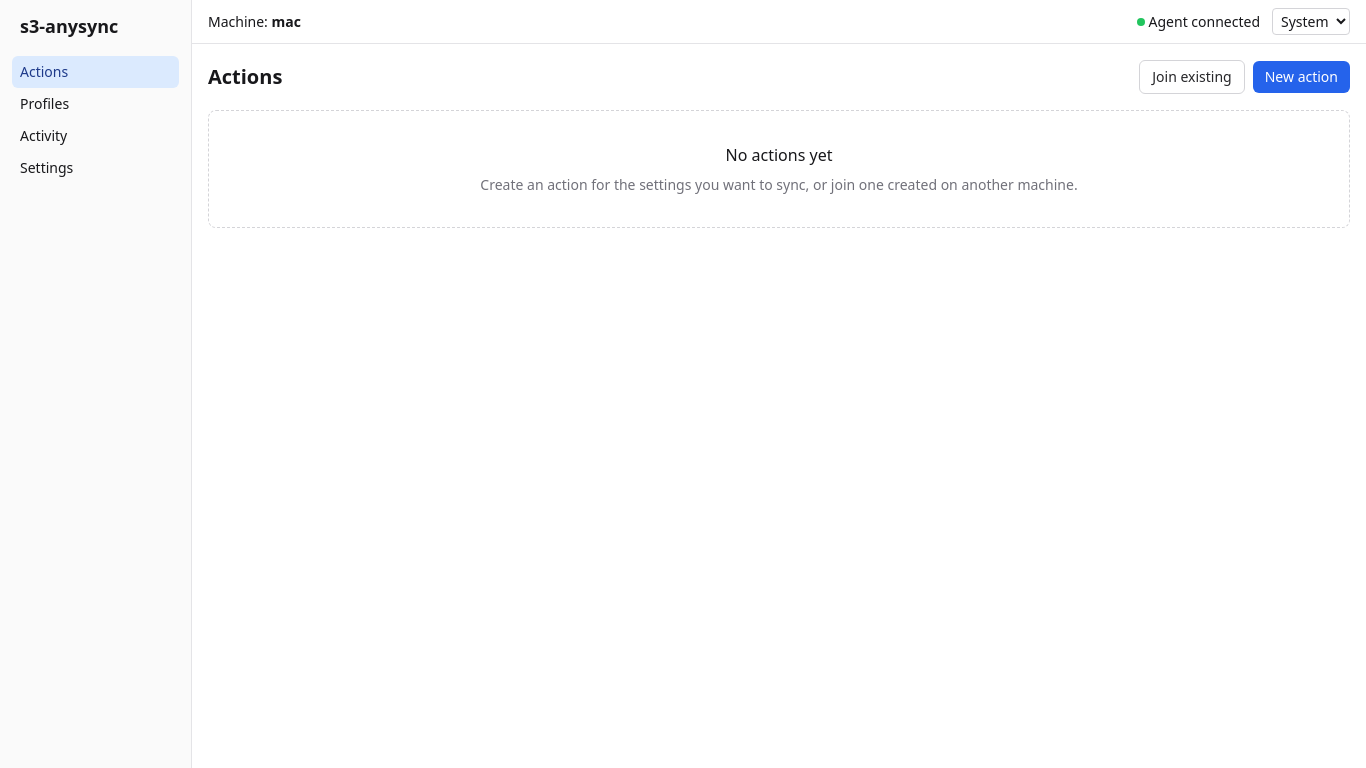
a failing load shows the message with Retry, not a spinner
Click the button "Settings": (96, 168) [12, 152, 179, 184]
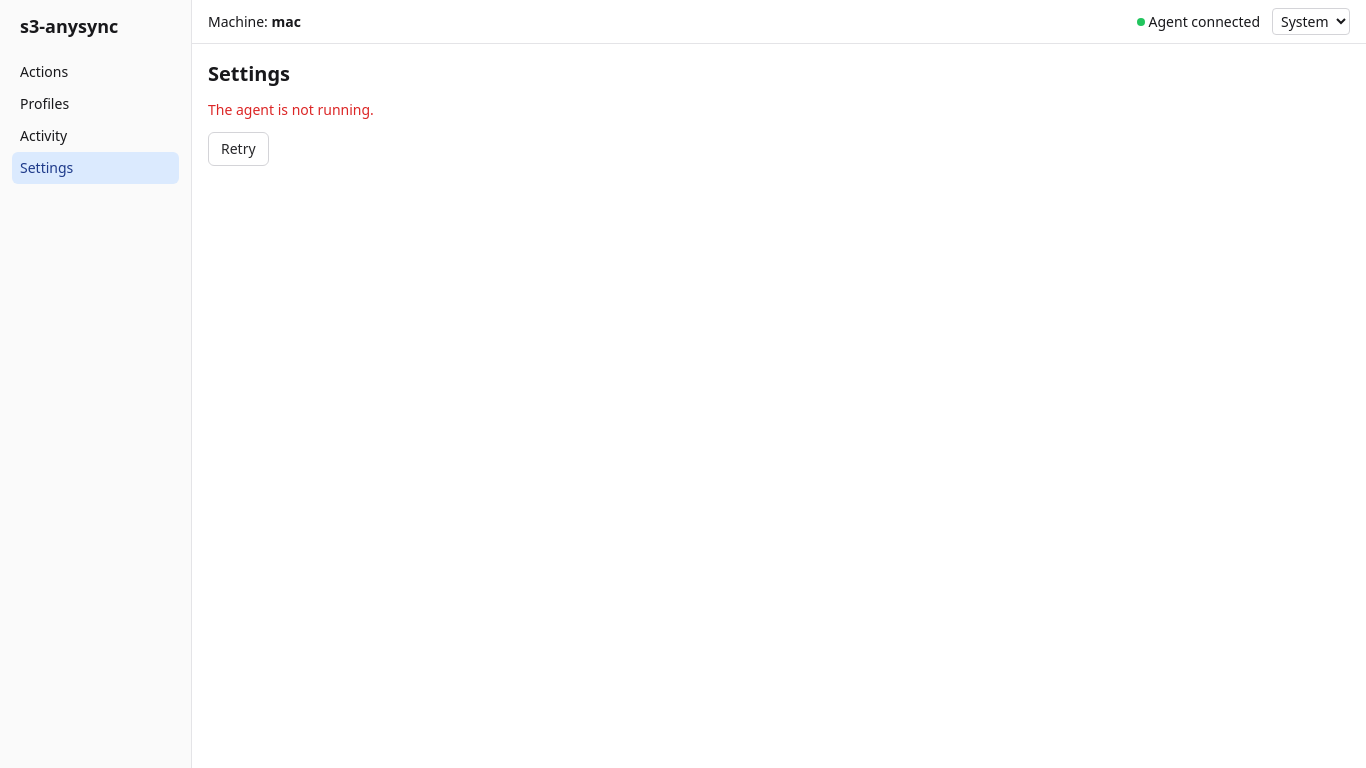
Expected: the text "The agent is not running." is shown, [208, 100, 374, 119]
Click the button "Retry": (238, 149) [208, 132, 269, 166]
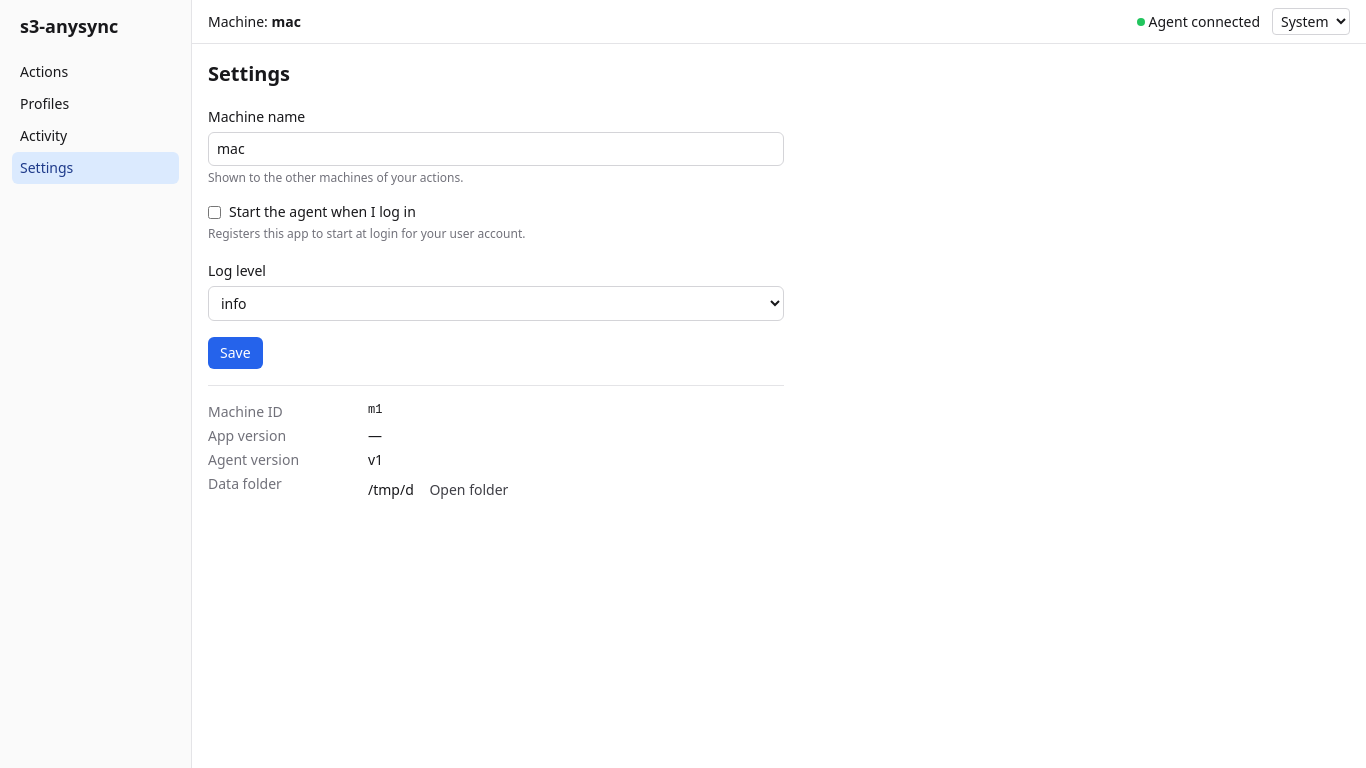
Expected: the field showing "mac" is shown, [208, 132, 784, 166]
Expected: the text "The agent is not running." is gone
